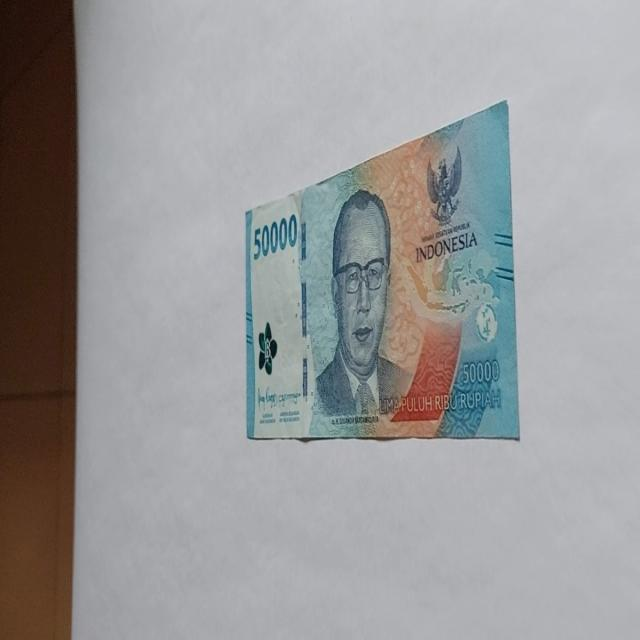lima puluh ribu rupiah: (244, 100, 519, 443), (308, 187, 410, 436)
